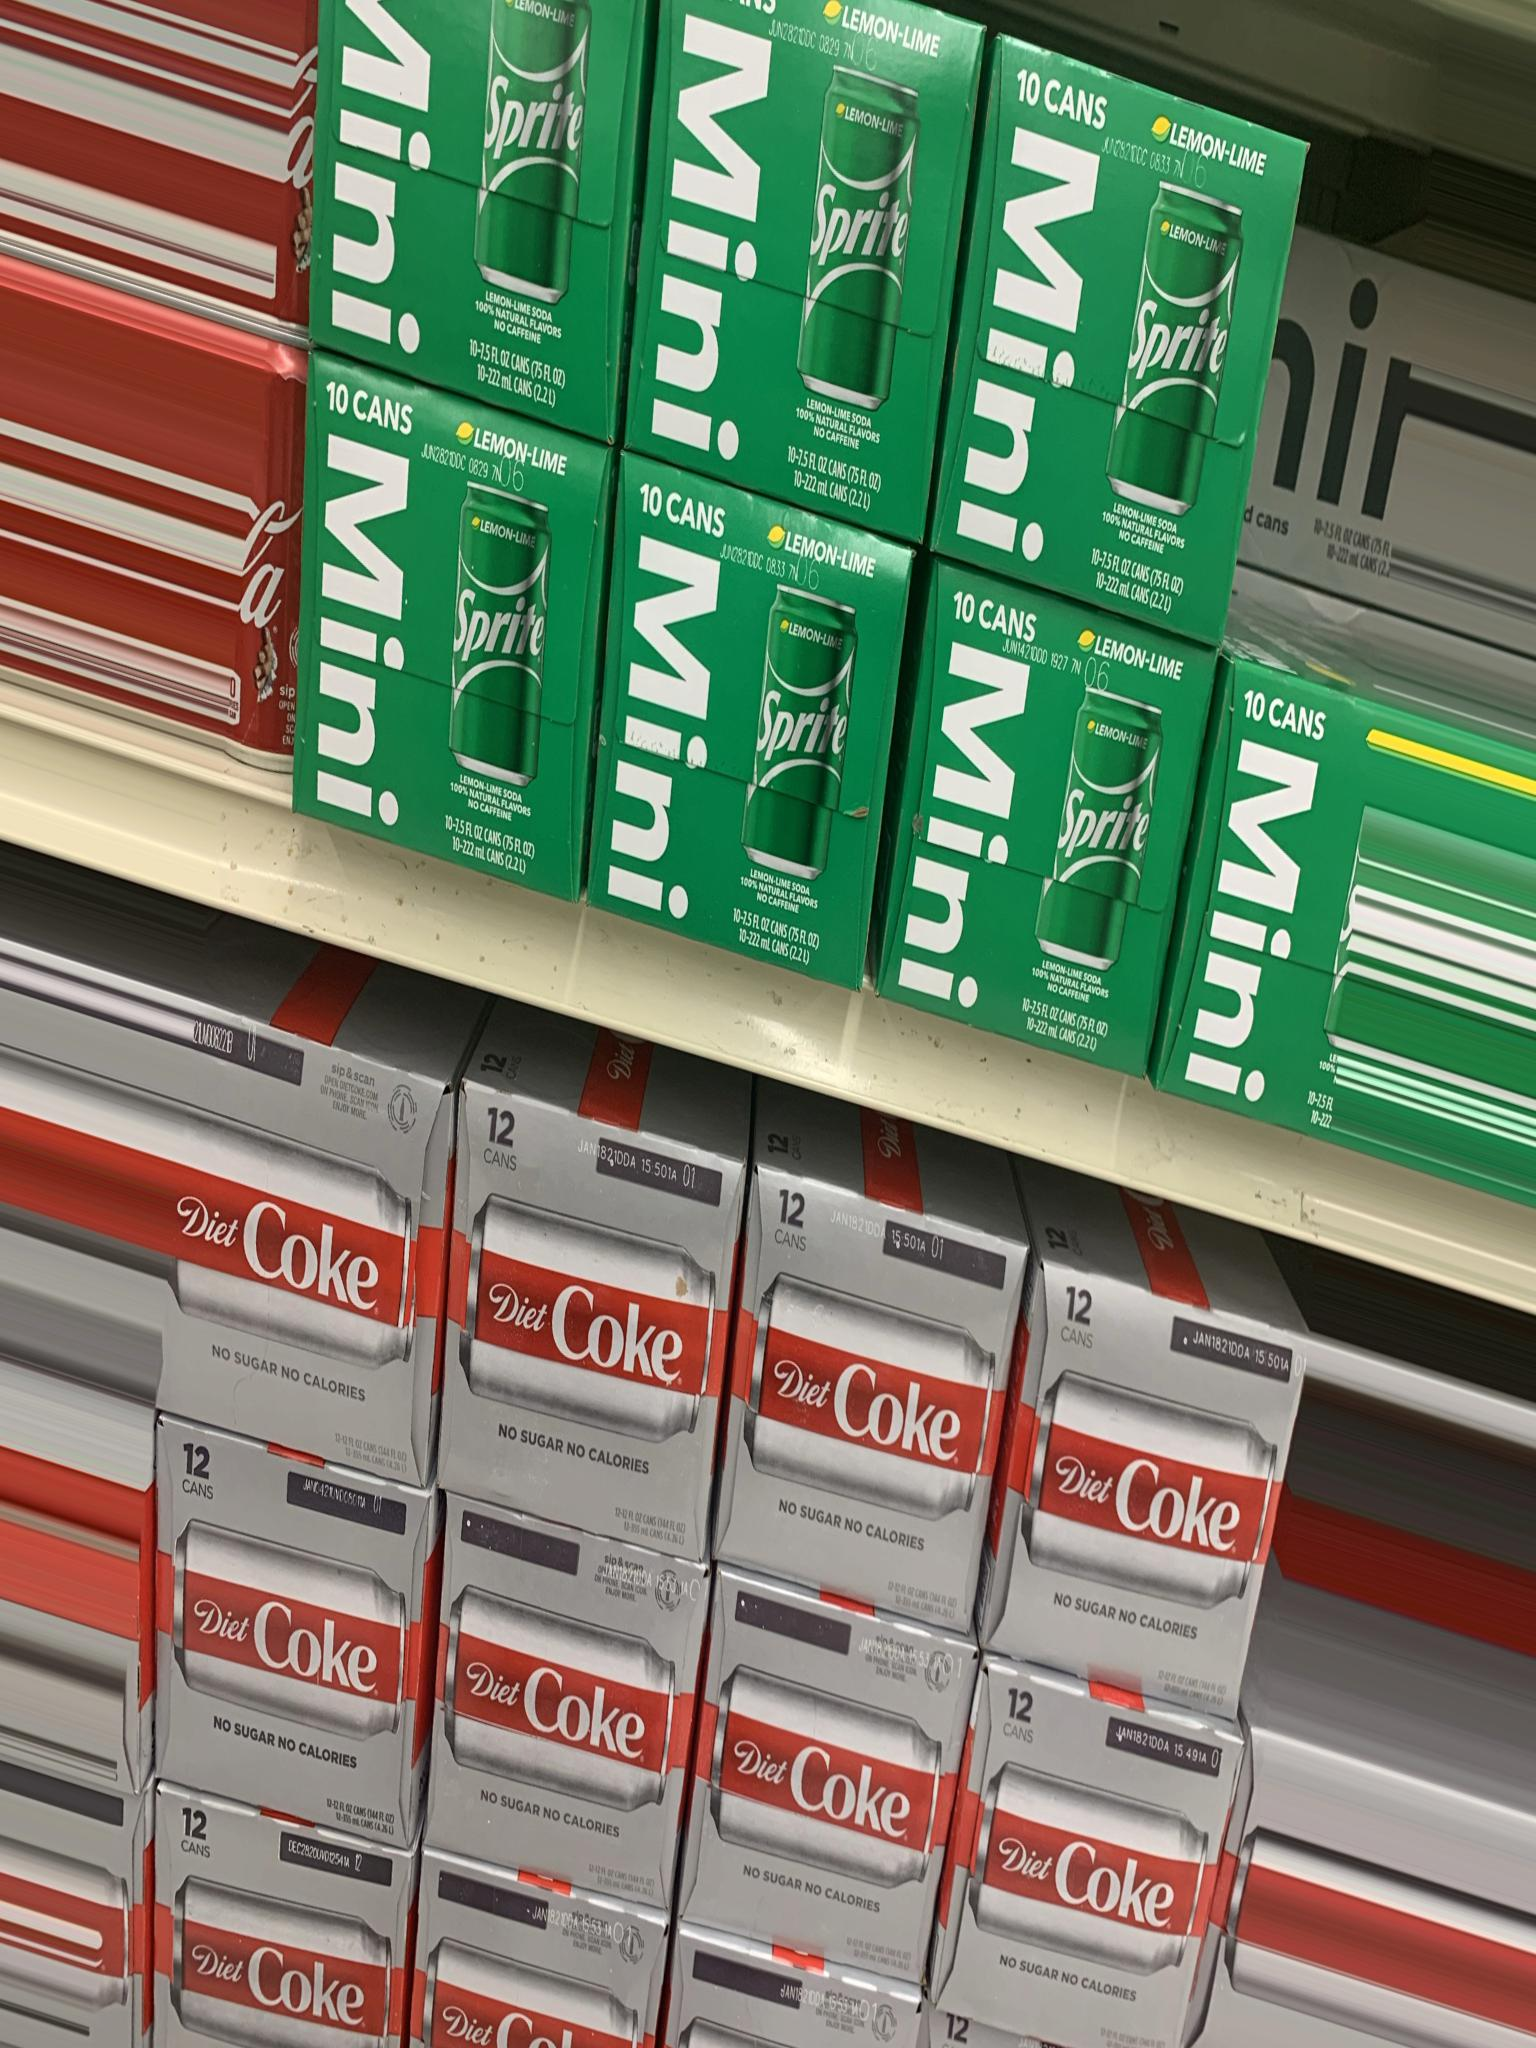soda: (273, 403, 644, 847), (963, 126, 1297, 576), (439, 1085, 721, 1558), (879, 572, 1152, 1061), (624, 463, 868, 993), (729, 1164, 991, 1614), (1008, 1271, 1252, 1711), (679, 1651, 1000, 1935), (139, 1508, 437, 1800), (950, 1750, 1267, 2022), (428, 1563, 721, 1842)
